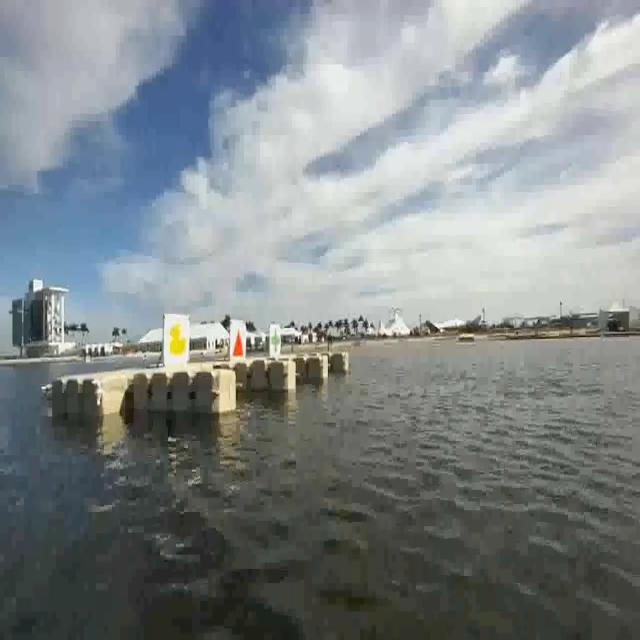blue-cross: (266, 322, 282, 358)
red-dot: (230, 317, 246, 362)
yellow-duck: (169, 320, 189, 357)
